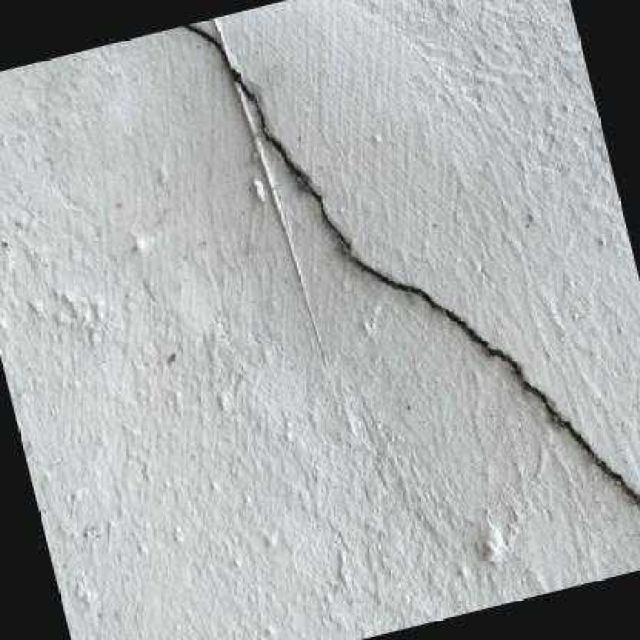D00: (182, 25, 640, 505)
